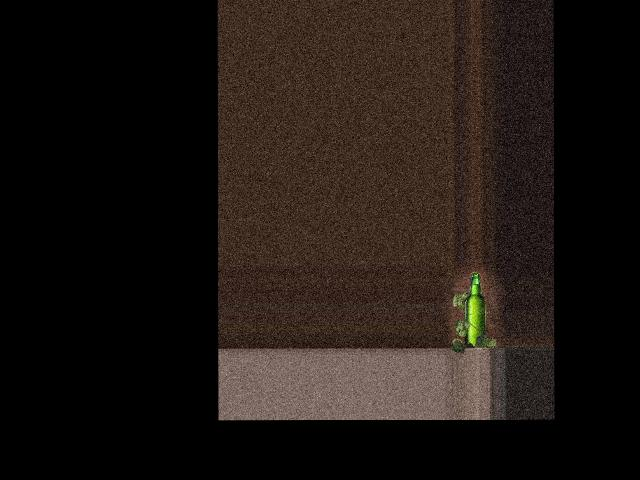beer: (466, 271, 486, 349)
